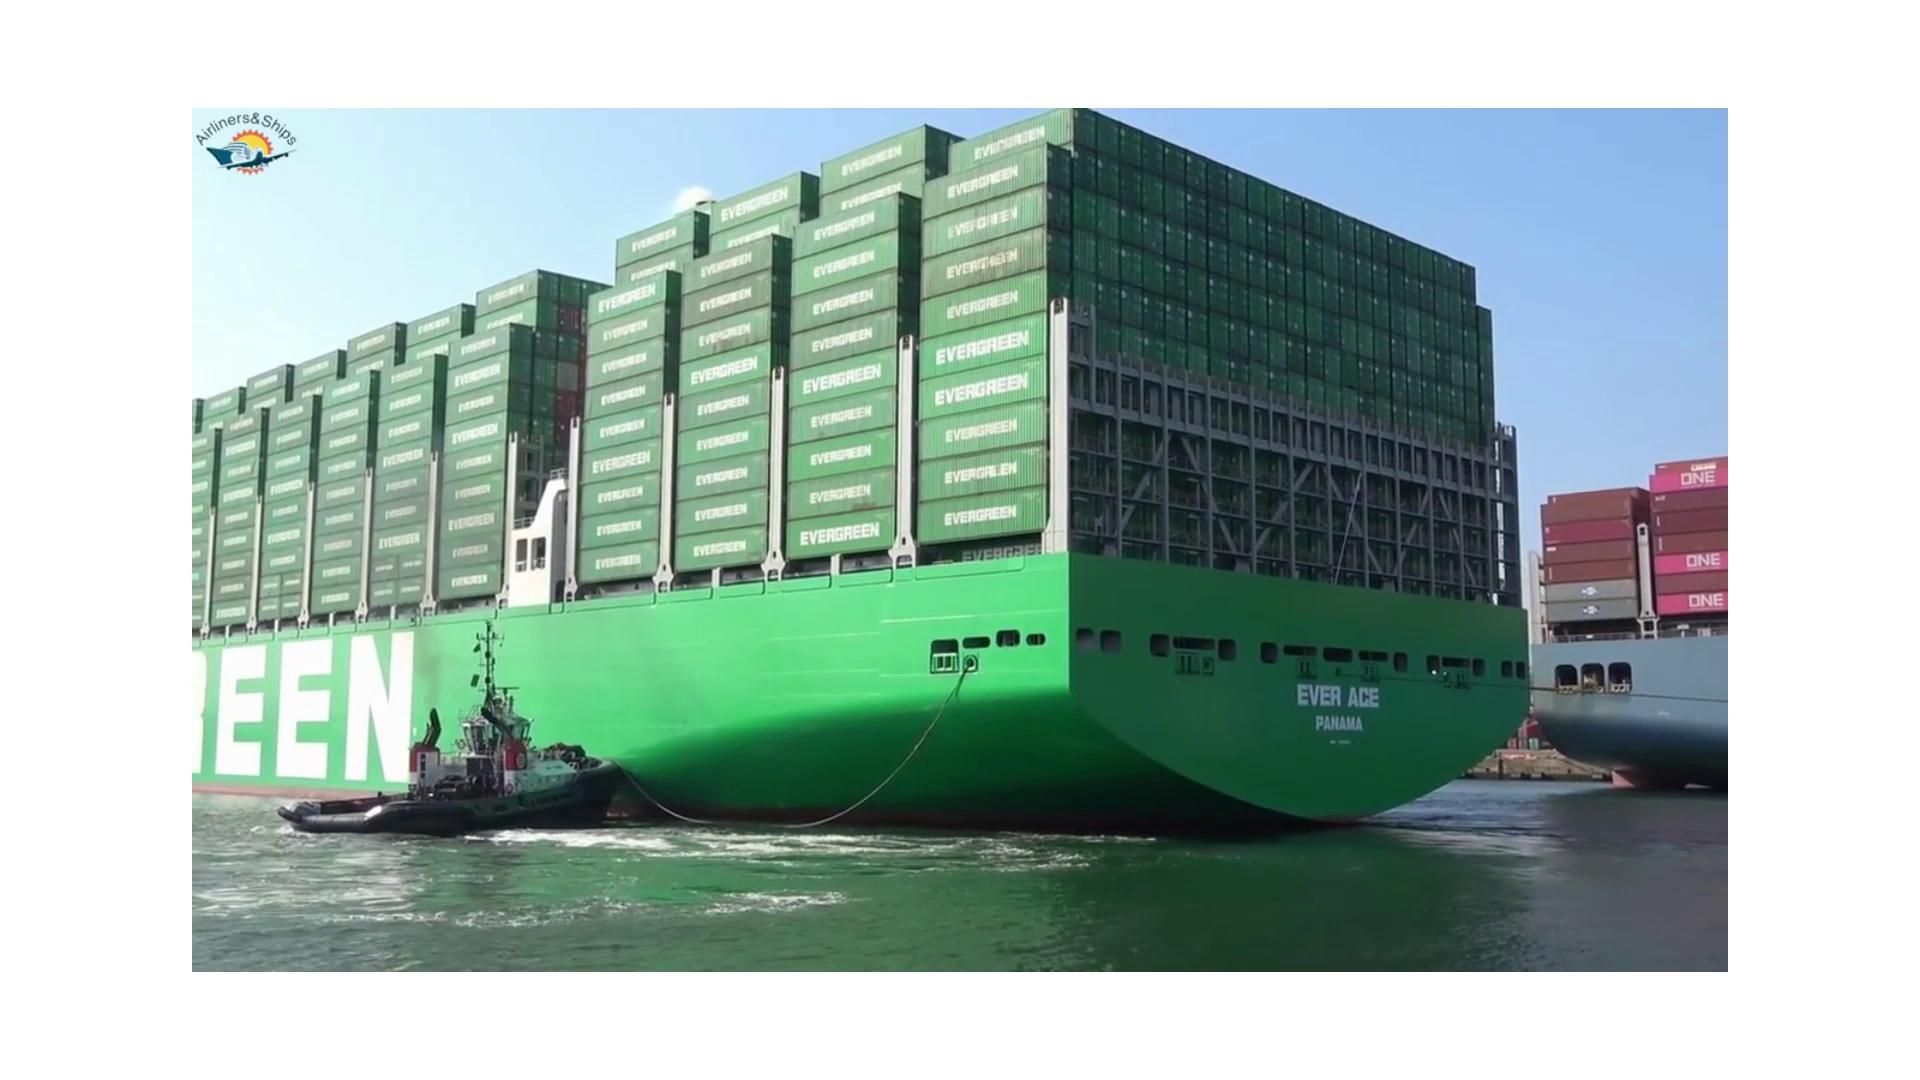OCR: (210, 622, 434, 799), (1291, 649, 1393, 753)
